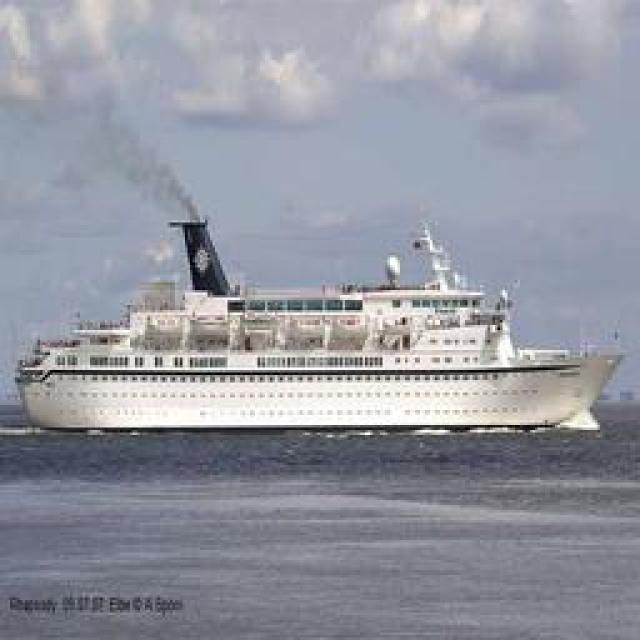Ship: (11, 223, 626, 438)
